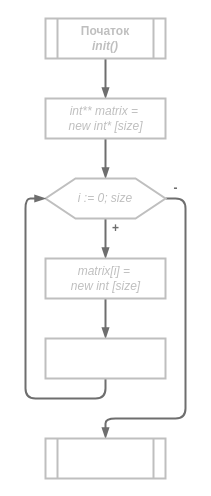
The diagram is 211 pixels wide and 496 high, and some of its shapes have lost their labels. Here are the shapes that lost their labels. From the top down, the centre of each, then its label:
(105,358): Повернути matrix
(105,458): Кінець init()
